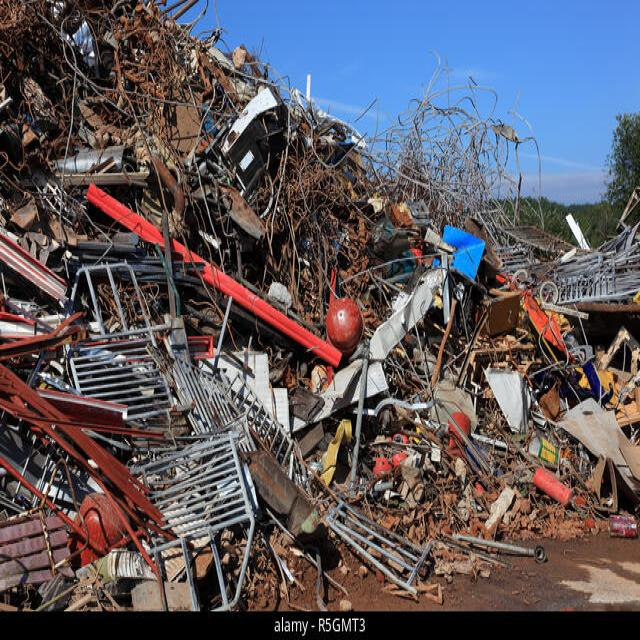metal: (93, 90, 484, 533)
